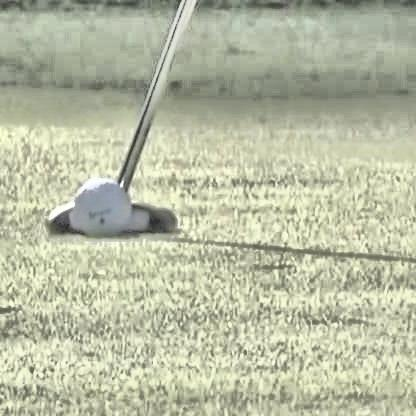golfball: (69, 172, 128, 235)
